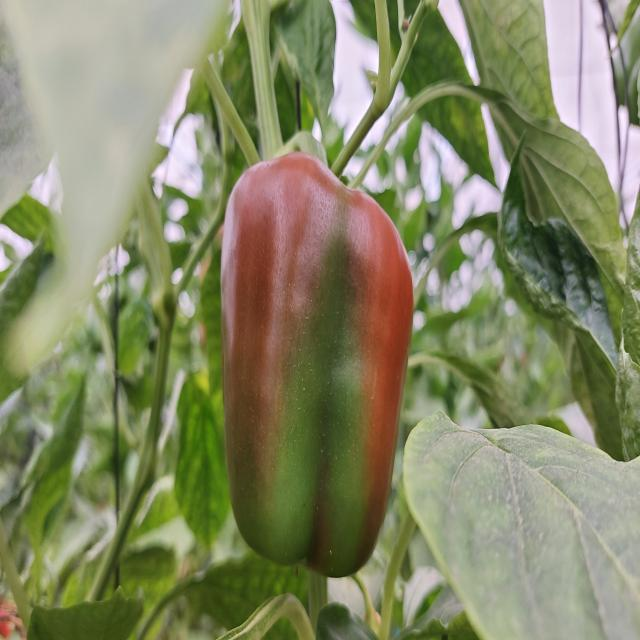BrownishRed--Can-be-Harvested: (224, 135, 400, 597)
